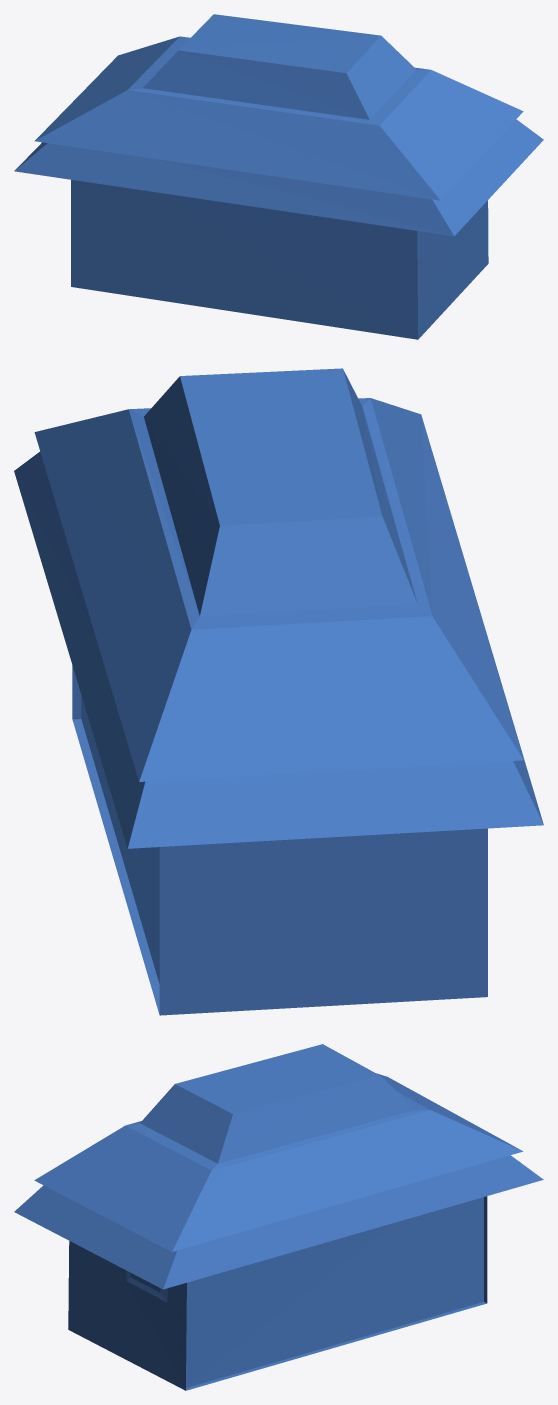
Rendered from house.obj.
3 renders of one model, top to bottom at view 1: azimuth 30°, elevation 25°; view 2: azimuth 150°, elevation 25°; view 3: azimuth 270°, elevation 25°, orthographic. The views are drawn at different scales.
Parts seen in each view (by area): view 1: House_Plane.005; view 2: House_Plane.005; view 3: House_Plane.005.
Part boxes in pixels (x1,y1,x2,y2): House_Plane.005: (14,14,543,339); House_Plane.005: (14,368,543,1015); House_Plane.005: (14,1044,543,1390).
Size of the model in its own units: 1.39 by 0.7728 by 1.51.
